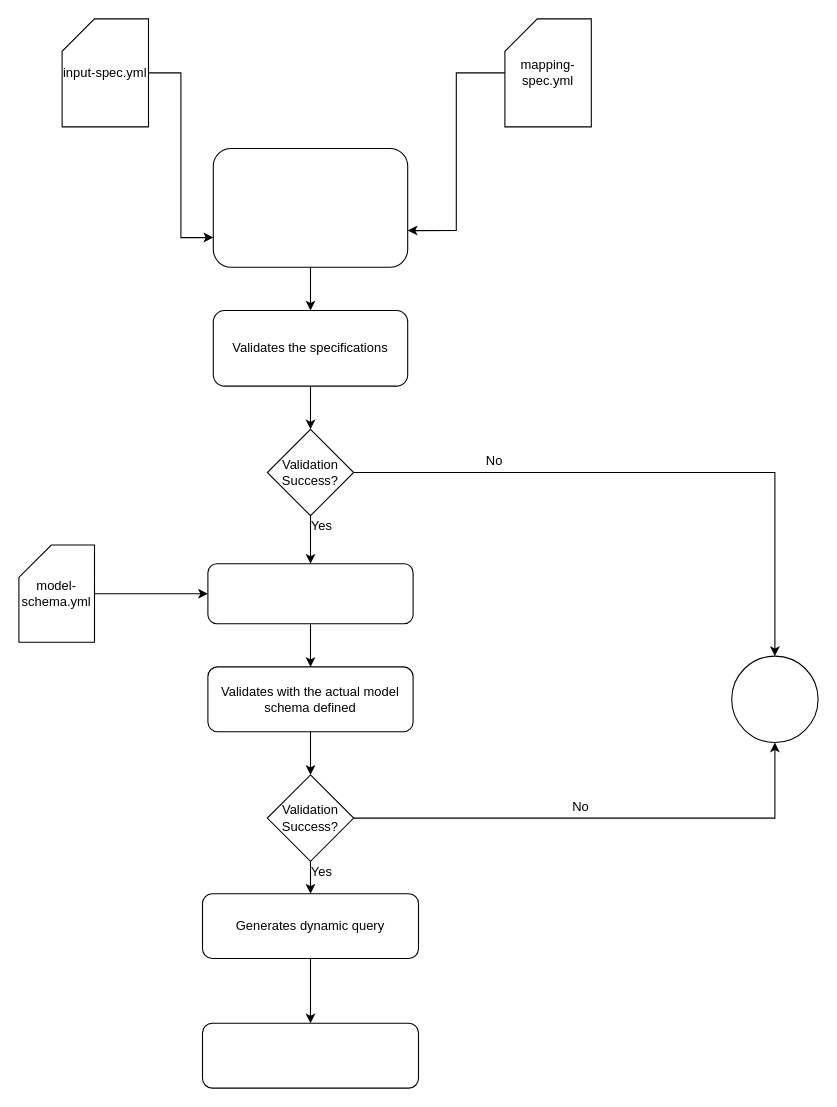
Image size: 837x1107. Some labels were removed from this diagram. The shapes that lost their labels are listed below. From the top down, each one's centre as x and y in pixels, then its label:
At (310,207): "Mapping Utility Preprocessor".
At (310,593): "Generates temporary model schema".
At (774,698): "Return".
At (309,1055): "DBUtilityOrchestrator".
